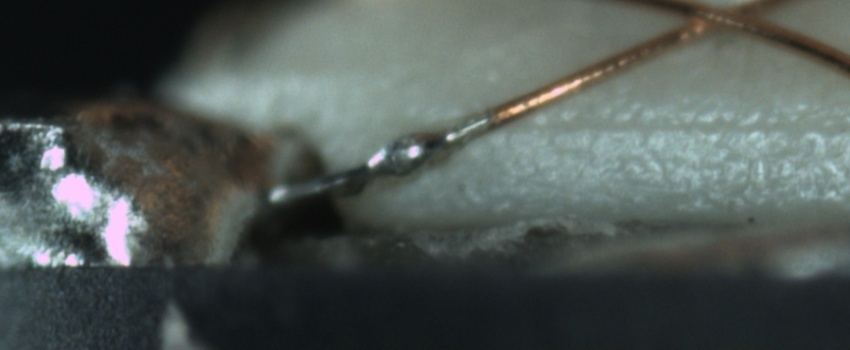CL: (669, 1, 786, 39)
DL: (498, 99, 849, 153)
TB: (372, 129, 444, 182)
TS: (270, 115, 492, 208)
TTCW: (265, 88, 548, 213)
